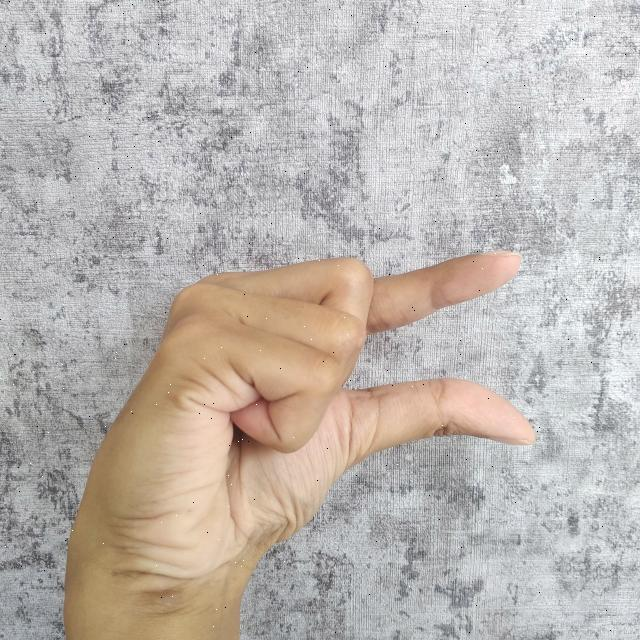G: (61, 243, 540, 640)
